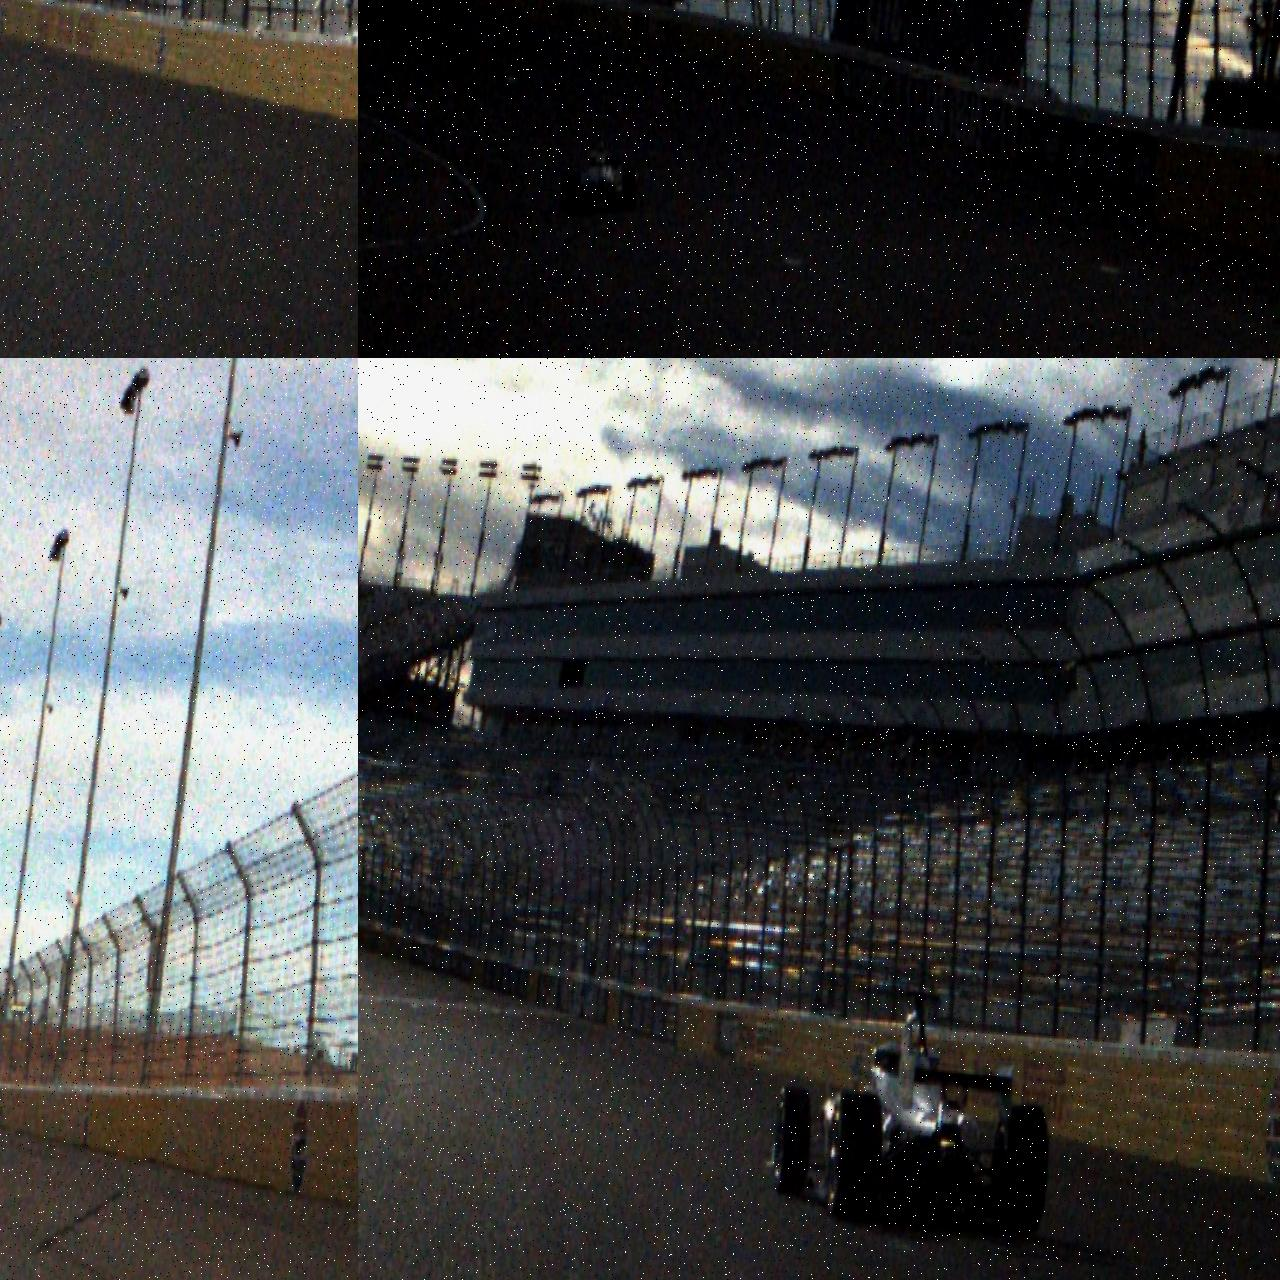AV: (762, 978, 1063, 1245), (559, 132, 640, 222)
Wheel: (988, 1099, 1055, 1244), (823, 1089, 885, 1224), (770, 1084, 816, 1199), (560, 168, 579, 217), (620, 166, 639, 215)
